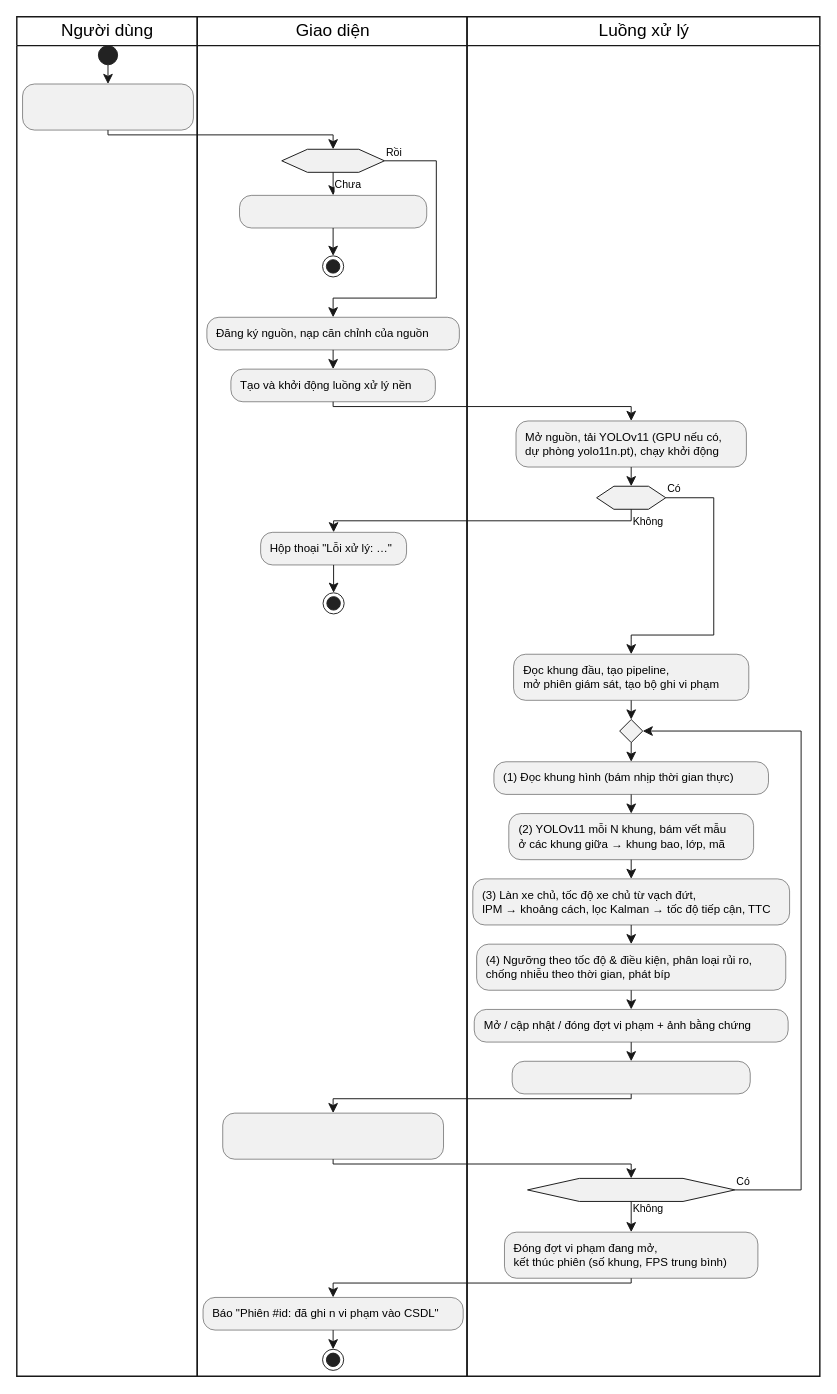
Image size: 837x1394. Some labels were removed from this diagram. The centre of each missing label's shape, as x and y in pixels:
(5) Vẽ lớp phủ + BEV, ghi video nếu bật: (x=630, y=1077)
Bấm "Bắt đầu" (F5), có thể bật "Ghi video" trước: (x=107, y=106)
Còn khung và chưa bấm Dừng (Esc)?: (x=631, y=1189)
Hiển thị video, BEV, thẻ trạng thái, thời gian 5 tầng, danh sách vi phạm: (x=332, y=1135)
Mở hộp chọn file video (UC01): (x=333, y=211)
Mở được?: (x=631, y=497)
Đã chọn nguồn?: (x=332, y=160)
